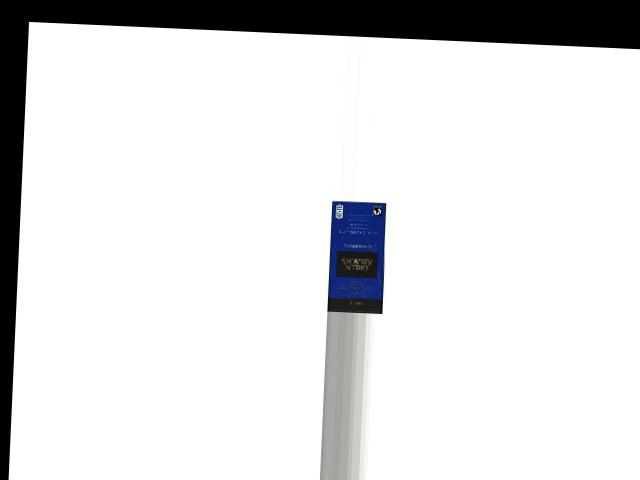chocolate: (326, 202, 387, 313)
